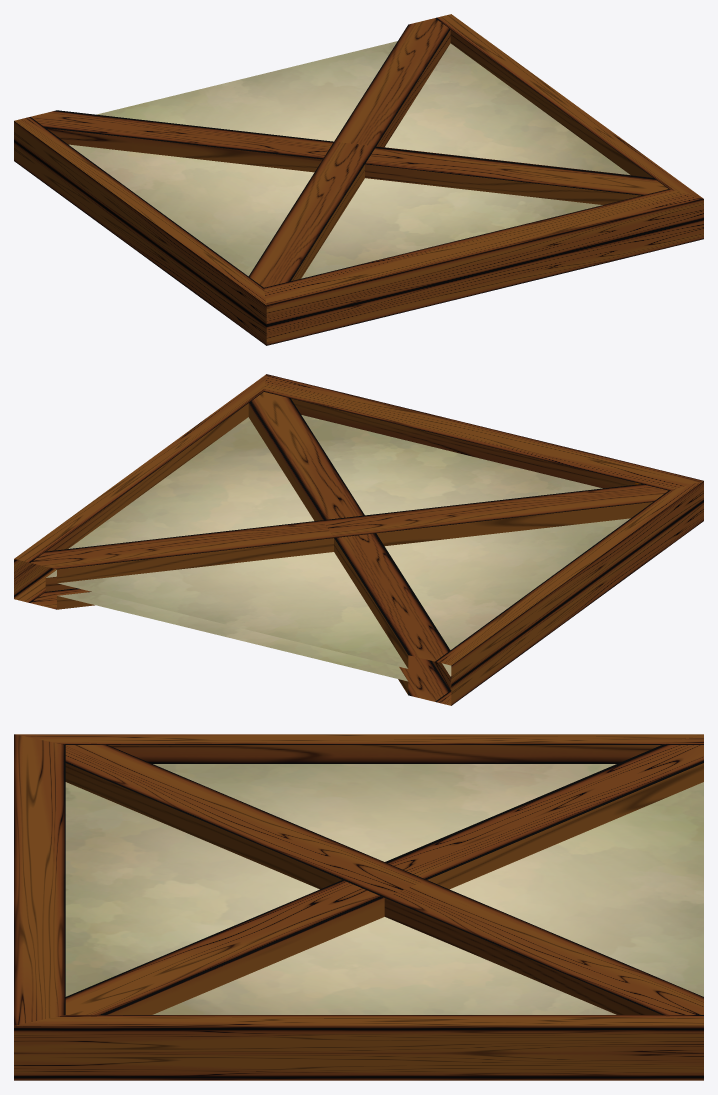
The model's file is MTile_01.fbx.
3 views of the same model, one above another, from view 1: azimuth 30°, elevation 25°; view 2: azimuth 150°, elevation 25°; view 3: azimuth 270°, elevation 25° (orthographic). The views are drawn at different scales.
Parts seen in each view (by area): view 1: MTile_01; view 2: MTile_01; view 3: MTile_01.
Part boxes in pixels (<box>): MTile_01: <box>14,14,703,345</box>; MTile_01: <box>14,374,703,705</box>; MTile_01: <box>14,734,703,1080</box>.
Size of the model in its own units: 255 by 22.41 by 255.
